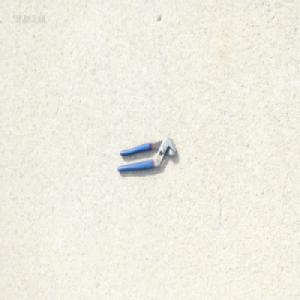Pliers: (116, 135, 176, 172)
